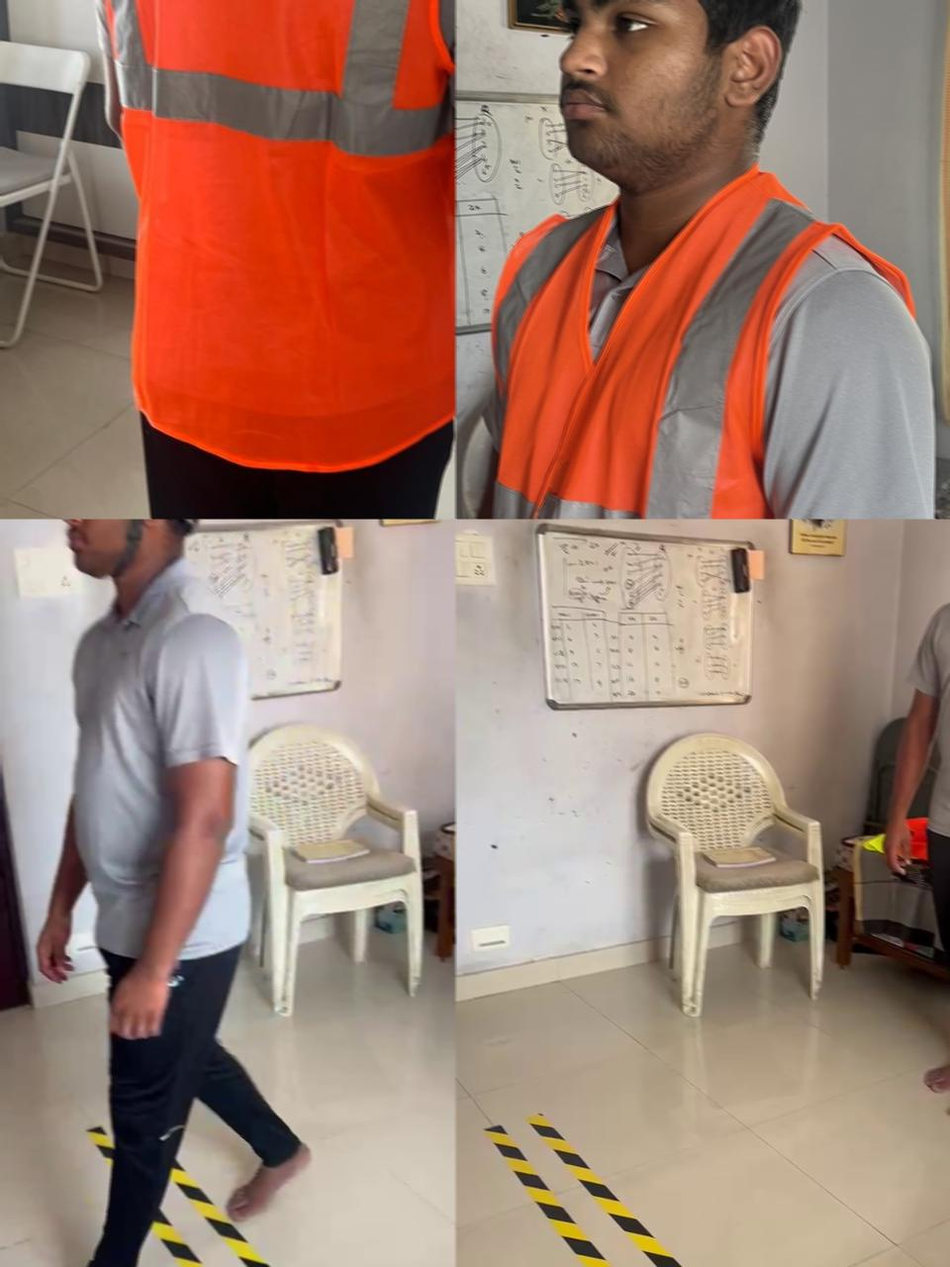BorderLine: (83, 1123, 386, 1267), (529, 1113, 787, 1267), (483, 1125, 719, 1267)
Helmet: (56, 519, 200, 587)
No_Helmet: (556, 0, 804, 183)
No_Vest: (69, 560, 260, 964), (904, 579, 950, 839)
Person: (455, 0, 941, 519), (5, 519, 312, 1267), (79, 0, 456, 519), (882, 519, 950, 1121)
Vest: (80, 0, 456, 469), (479, 165, 941, 519)
